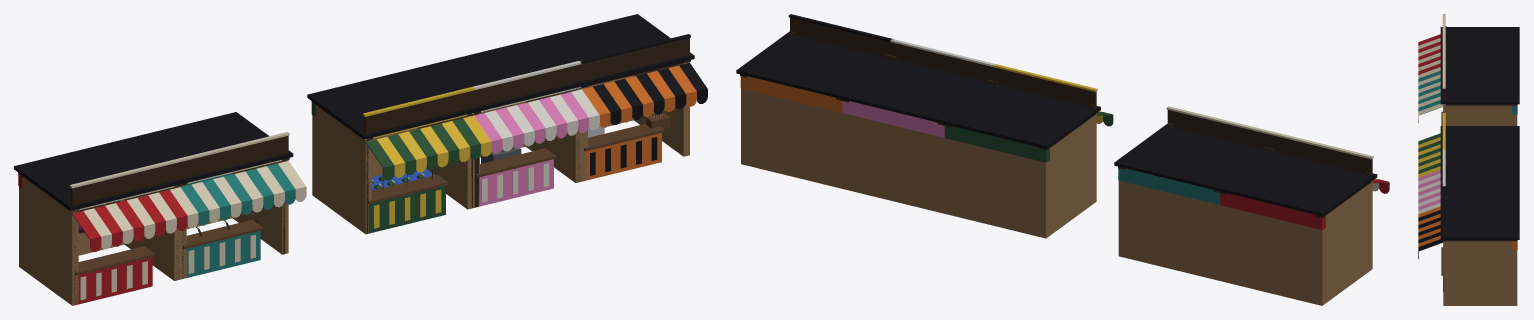
Rendered from hg-stalls.glb.
The picture shows the model from 3 angles, left to right: view 1: azimuth 30°, elevation 25°; view 2: azimuth 150°, elevation 25°; view 3: azimuth 270°, elevation 25°; orthographic projection. The views are drawn at different scales.
Parts seen in each view (by area): view 1: hg-stalls; view 2: hg-stalls; view 3: hg-stalls.
Boxes of the visible parts, x1=… form: hg-stalls: x1=14, y1=14, x2=707, y2=305; hg-stalls: x1=736, y1=14, x2=1389, y2=305; hg-stalls: x1=1418, y1=14, x2=1519, y2=305.
Size of the model in its own units: 20.2 by 3.71 by 4.11.
